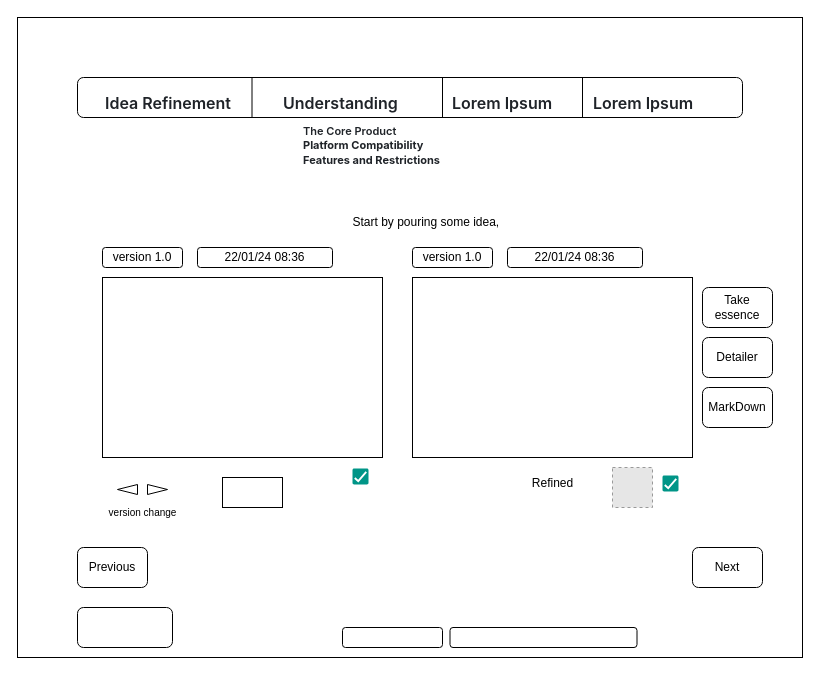
This 820x675 diagram has some shape labels left out. Grey dashed boxes stand in for pictures. Each missing label, with the box of its shape:
Backpropagate: (76, 606, 172, 648)
Compile concrete document: (449, 626, 637, 648)
Export: (342, 626, 442, 648)
Pour: (222, 476, 282, 508)
